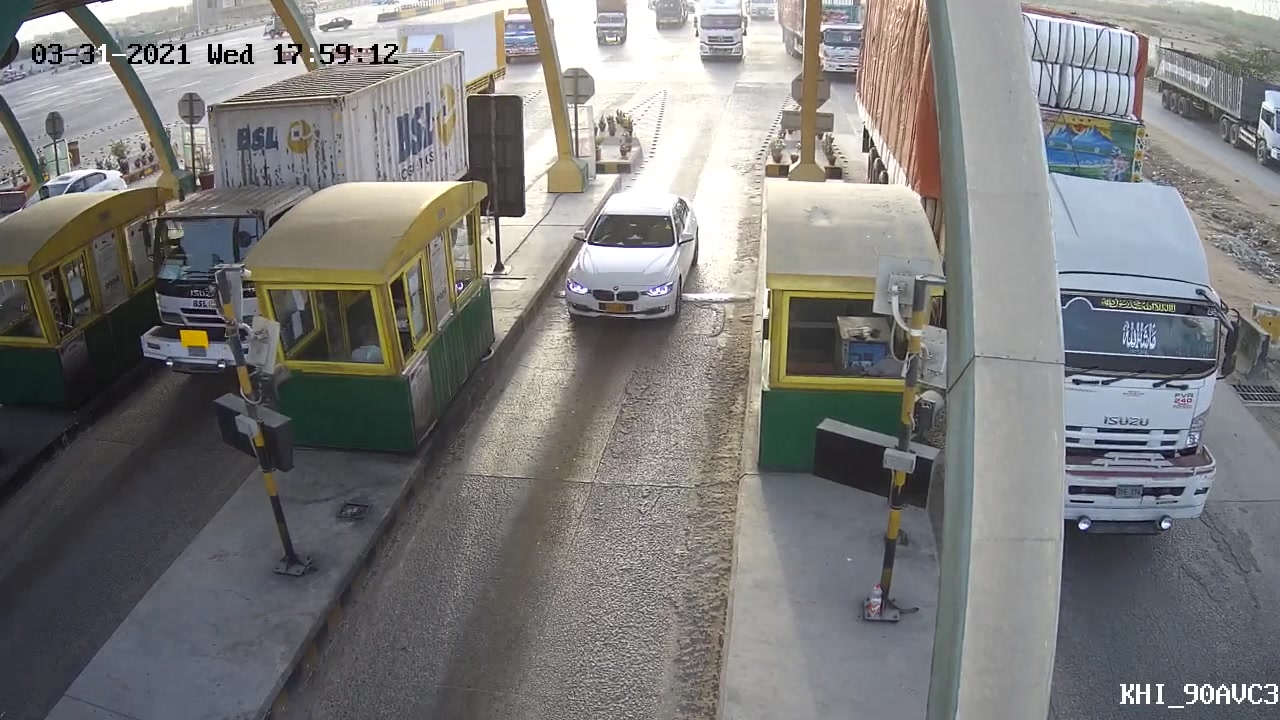F1: (548, 194, 711, 331)
